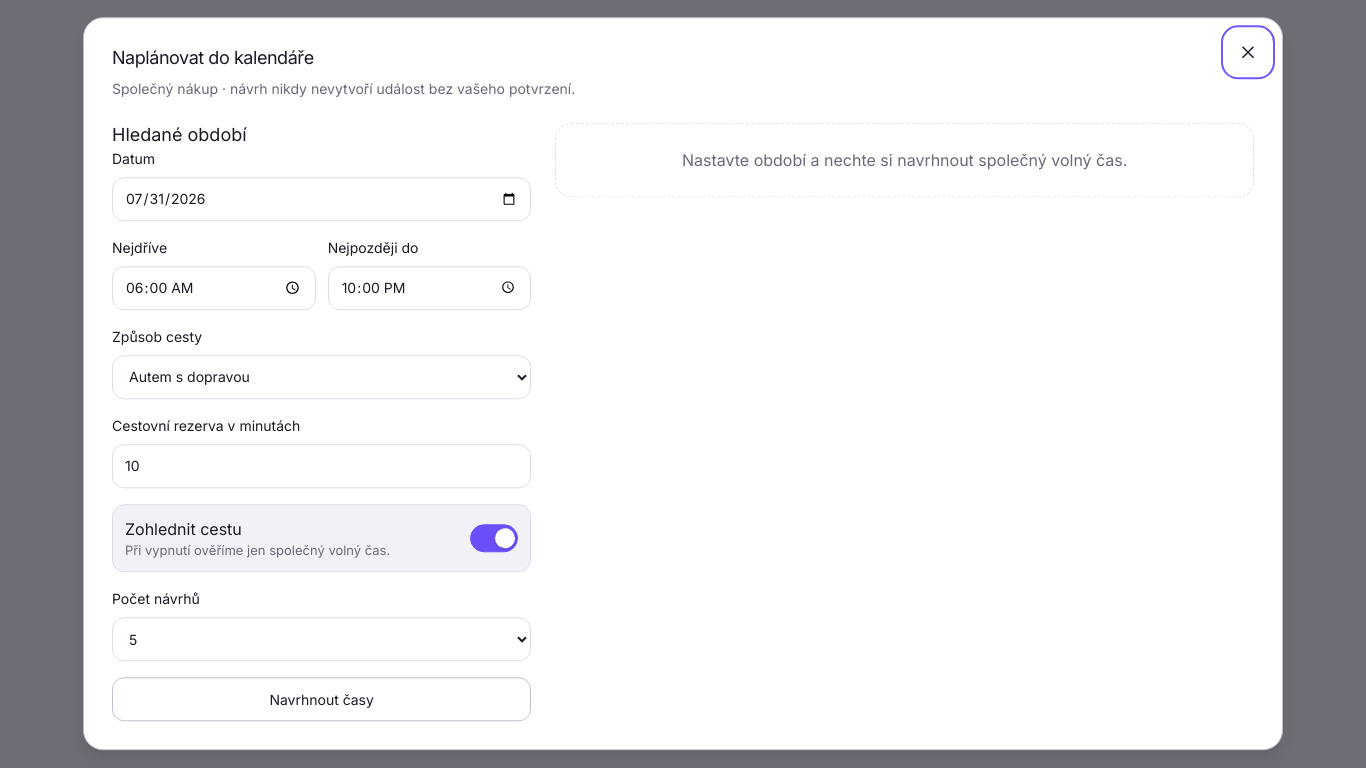
it: task scheduling dialog integration › does not persist a proposal until the user confirms it
Click the button "Navrhnout časy". click: (322, 700)
box: left=112, top=678, right=531, bottom=722
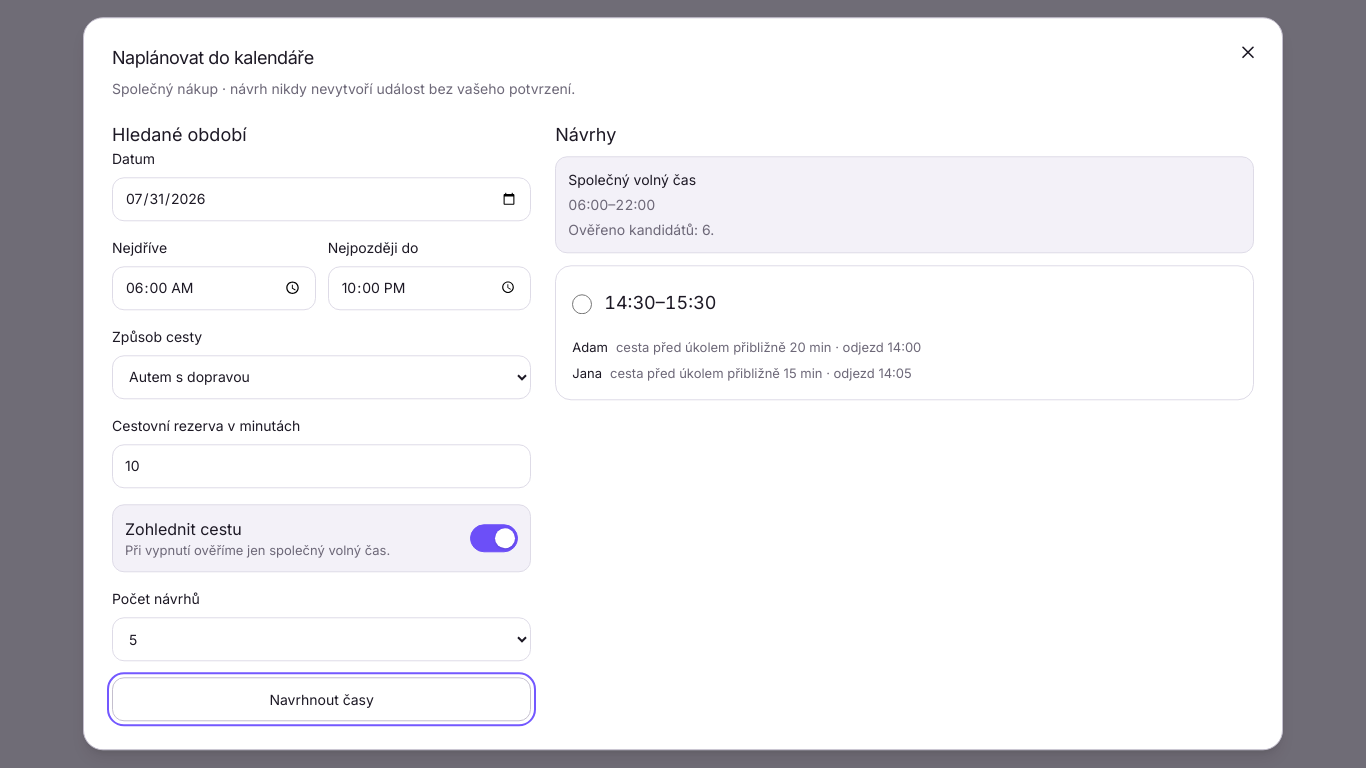
Click the radio button. click: (582, 304)
box: left=572, top=294, right=592, bottom=314
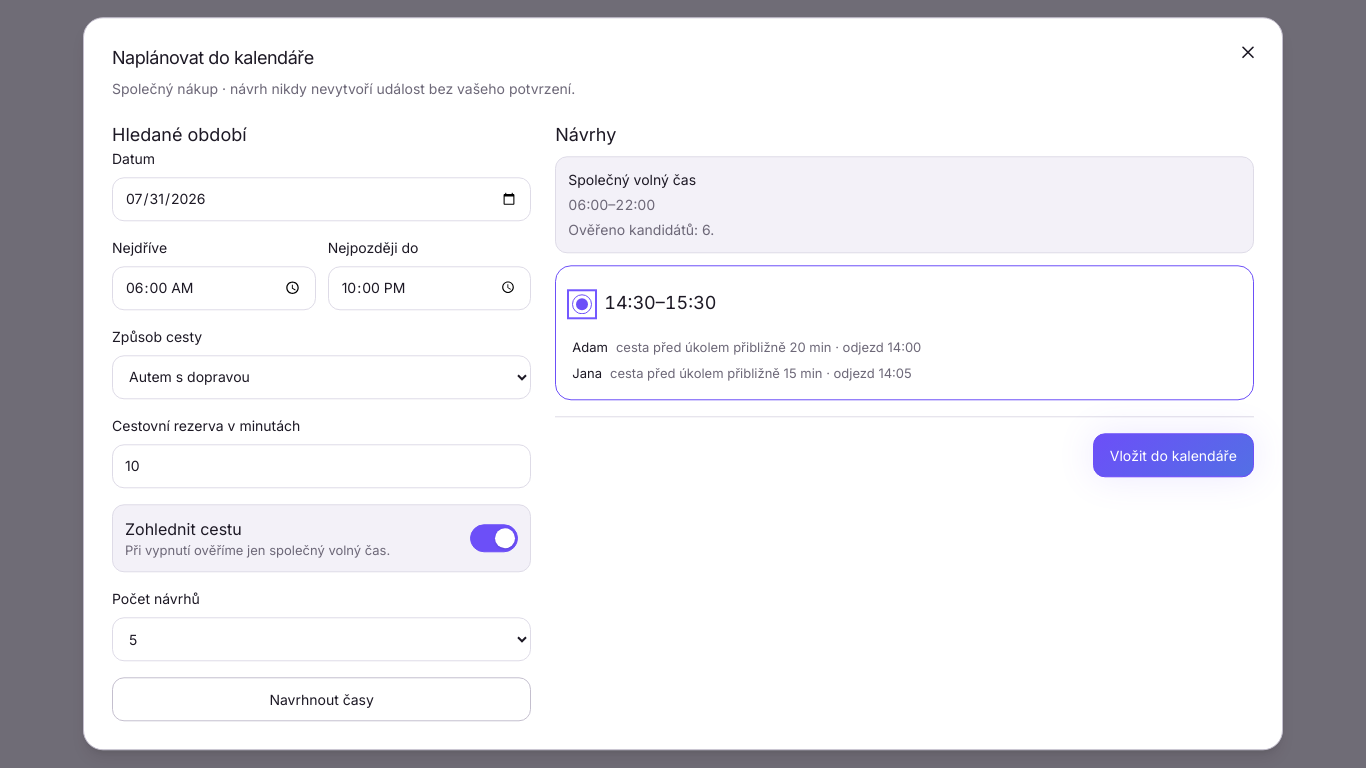
expect the button "Vložit do kalendáře" is enabled: met, box left=1093, top=434, right=1254, bottom=478
